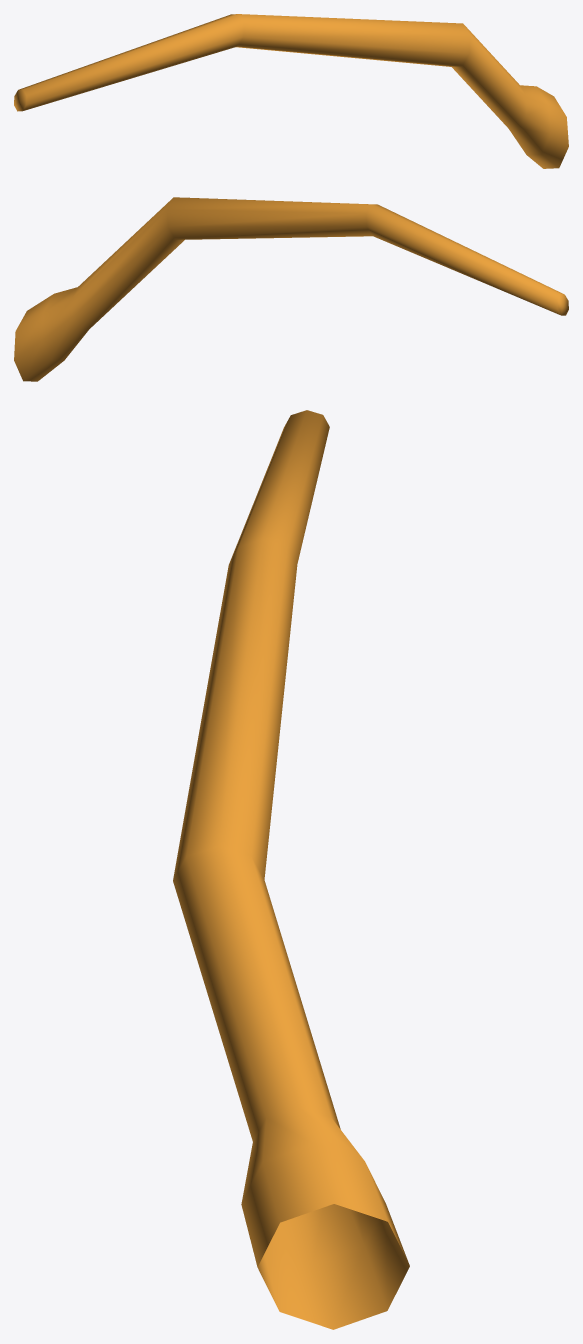
Rendered from Branch 3.fbx.
3 views of the same model, one above another, from view 1: azimuth 30°, elevation 25°; view 2: azimuth 150°, elevation 25°; view 3: azimuth 270°, elevation 25° (orthographic). The views are drawn at different scales.
Parts seen in each view (by area): view 1: Cube; view 2: Cube; view 3: Cube.
Part boxes in pixels (x1,y1,x2,y2): Cube: [14, 14, 568, 168]; Cube: [14, 197, 568, 381]; Cube: [173, 410, 409, 1329].
Bounding box in the file's own units: 796 × 345 × 154.
